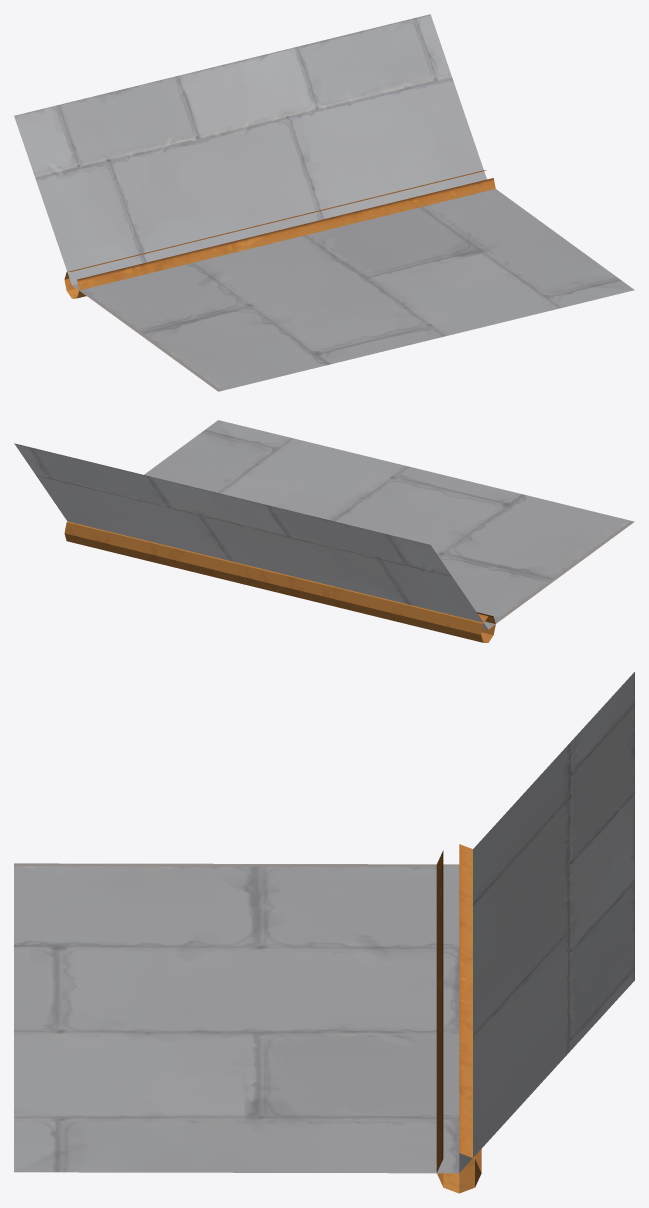
Rendered from SM_CeilingArchSide.fbx.
3 views of the same model, one above another, from view 1: azimuth 30°, elevation 25°; view 2: azimuth 150°, elevation 25°; view 3: azimuth 270°, elevation 25° (orthographic). The views are drawn at different scales.
Parts seen in each view (by area): view 1: SM_CeilingArchSide; view 2: SM_CeilingArchSide; view 3: SM_CeilingArchSide.
Boxes of the visible parts, x1,y1,x2,y2 form: SM_CeilingArchSide: (14,14,634,391); SM_CeilingArchSide: (14,420,634,642); SM_CeilingArchSide: (14,672,634,1193).
Bounding box in the file's own units: 2 × 0.6439 × 1.7.
